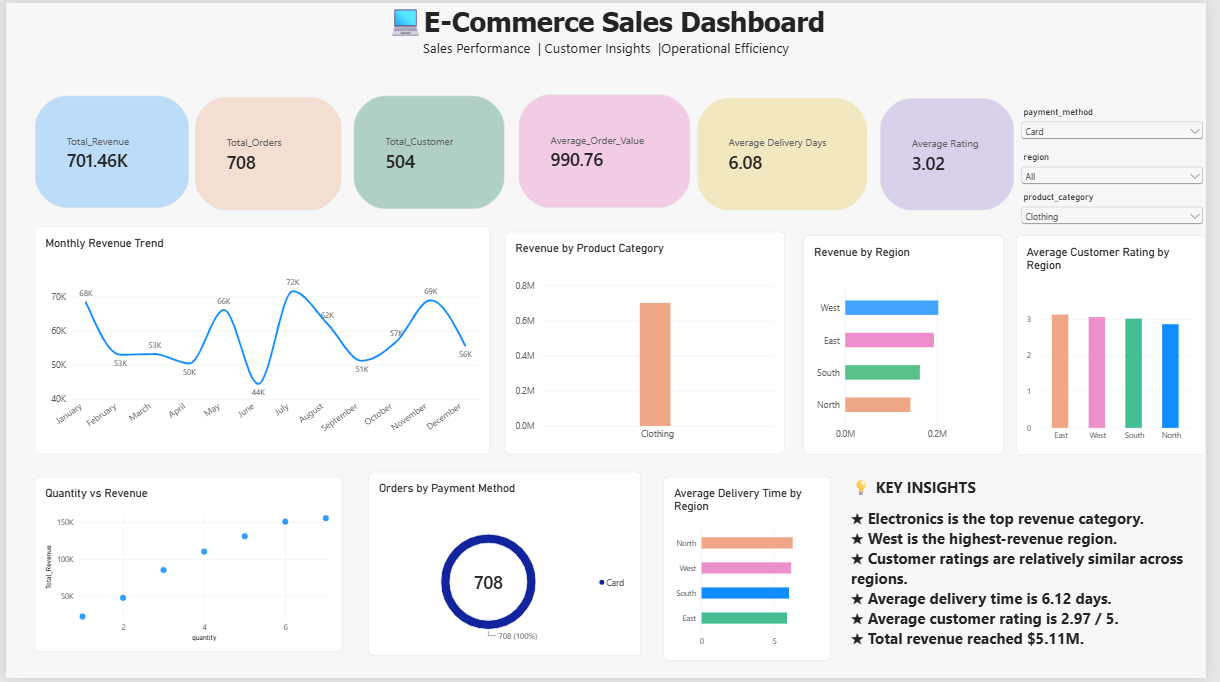

This screenshot's page, from the dashboard's own definition file:
{"tool":"powerbi","page":{"name":"Page 1","canvas":[1920,1080],"ordinal":0},"visuals":[{"type":"cardVisual","fields":{"Data":["ecommerce_sales_cleaned.Total_Revenue"]},"box":[45,147.5,247.5,180],"z":0},{"type":"cardVisual","fields":{"Data":["ecommerce_sales_cleaned.Total_Orders"]},"box":[302.5,150,235,182.5],"z":1000},{"type":"cardVisual","fields":{"Data":["ecommerce_sales_cleaned.Total_Customer"]},"box":[555,147.5,242.5,182.5],"z":2000},{"type":"cardVisual","fields":{"Data":["ecommerce_sales_cleaned.Average_Order_Value"]},"box":[820,145,275,182.5],"z":3000},{"type":"cardVisual","fields":{"Data":["ecommerce_sales_cleaned.Average Rating"]},"box":[1397.5,152.5,215,180],"z":4000},{"type":"lineChart","title":"Monthly Revenue Trend","fields":{"Category":["ecommerce_sales_cleaned.month.Variation.Date Hierarchy.Month","ecommerce_sales_cleaned.month.Variation.Date Hierarchy.Day"],"Y":["ecommerce_sales_cleaned.Total_Revenue"]},"box":[46,358,728,364],"z":5000},{"type":"clusteredColumnChart","title":"Revenue by Product Category","fields":{"Category":["ecommerce_sales_cleaned.product_category"],"Y":["ecommerce_sales_cleaned.Total_Revenue"]},"box":[798,366,448,356],"z":6000},{"type":"clusteredBarChart","title":"Revenue by Region","fields":{"Category":["ecommerce_sales_cleaned.region"],"Y":["ecommerce_sales_cleaned.Total_Revenue"]},"box":[1276,372,320,350],"z":7000},{"type":"scatterChart","title":"Quantity vs Revenue","fields":{"X":["ecommerce_sales_cleaned.quantity"],"Y":["ecommerce_sales_cleaned.Total_Revenue"]},"box":[46,758,491.7,280],"z":8000},{"type":"donutChart","title":"Orders by Payment Method","fields":{"Category":["ecommerce_sales_cleaned.payment_method"],"Y":["CountNonNull(ecommerce_sales_cleaned.order_id)"]},"box":[580,750,436,294],"z":9000},{"type":"clusteredColumnChart","title":"Average Customer Rating by Region","fields":{"Category":["ecommerce_sales_cleaned.region"],"Y":["ecommerce_sales_cleaned.Average Rating"]},"box":[1616,372,304,350],"z":10000},{"type":"clusteredBarChart","title":"Average Delivery Time by Region","fields":{"Category":["ecommerce_sales_cleaned.region"],"Y":["ecommerce_sales_cleaned.Average Delivery Days"]},"box":[1052,758,268,294],"z":11000},{"type":"textbox","box":[0,0,1920,110],"z":12000},{"type":"textbox","box":[1280,1052,280,28],"z":13000},{"type":"textbox","box":[1352,758,568,294],"z":14000},{"type":"cardVisual","fields":{"Data":["ecommerce_sales_cleaned.Average Delivery Days"]},"box":[1105,152.5,272.5,180],"z":15000},{"type":"slicer","fields":{"Values":["ecommerce_sales_cleaned.product_category"]},"box":[1620,302.5,300,70],"z":15001},{"type":"slicer","fields":{"Values":["ecommerce_sales_cleaned.region"]},"box":[1620,237.5,300,60],"z":15002},{"type":"slicer","fields":{"Values":["ecommerce_sales_cleaned.payment_method"]},"box":[1620,165,300,75],"z":15003}]}

Visuals, with their boxes in screenshot pixels (x1, y1, x2, y2), scaled from the page's 1920x1080 canvas onto the 1220x682 screenshot:
cardVisual - ecommerce_sales_cleaned.Total_Revenue: bbox=(29, 93, 186, 207)
cardVisual - ecommerce_sales_cleaned.Total_Orders: bbox=(192, 95, 342, 210)
cardVisual - ecommerce_sales_cleaned.Total_Customer: bbox=(353, 93, 507, 208)
cardVisual - ecommerce_sales_cleaned.Average_Order_Value: bbox=(521, 92, 696, 207)
cardVisual - ecommerce_sales_cleaned.Average Rating: bbox=(888, 96, 1025, 210)
"Monthly Revenue Trend" lineChart: bbox=(29, 226, 492, 456)
"Revenue by Product Category" clusteredColumnChart: bbox=(507, 231, 792, 456)
"Revenue by Region" clusteredBarChart: bbox=(811, 235, 1014, 456)
"Quantity vs Revenue" scatterChart: bbox=(29, 479, 342, 655)
"Orders by Payment Method" donutChart: bbox=(369, 474, 646, 659)
"Average Customer Rating by Region" clusteredColumnChart: bbox=(1027, 235, 1219, 456)
"Average Delivery Time by Region" clusteredBarChart: bbox=(668, 479, 839, 664)
textbox: bbox=(0, 0, 1219, 69)
textbox: bbox=(813, 664, 991, 681)
textbox: bbox=(859, 479, 1219, 664)
cardVisual - ecommerce_sales_cleaned.Average Delivery Days: bbox=(702, 96, 875, 210)
slicer - ecommerce_sales_cleaned.product_category: bbox=(1029, 191, 1219, 235)
slicer - ecommerce_sales_cleaned.region: bbox=(1029, 150, 1219, 188)
slicer - ecommerce_sales_cleaned.payment_method: bbox=(1029, 104, 1219, 152)
